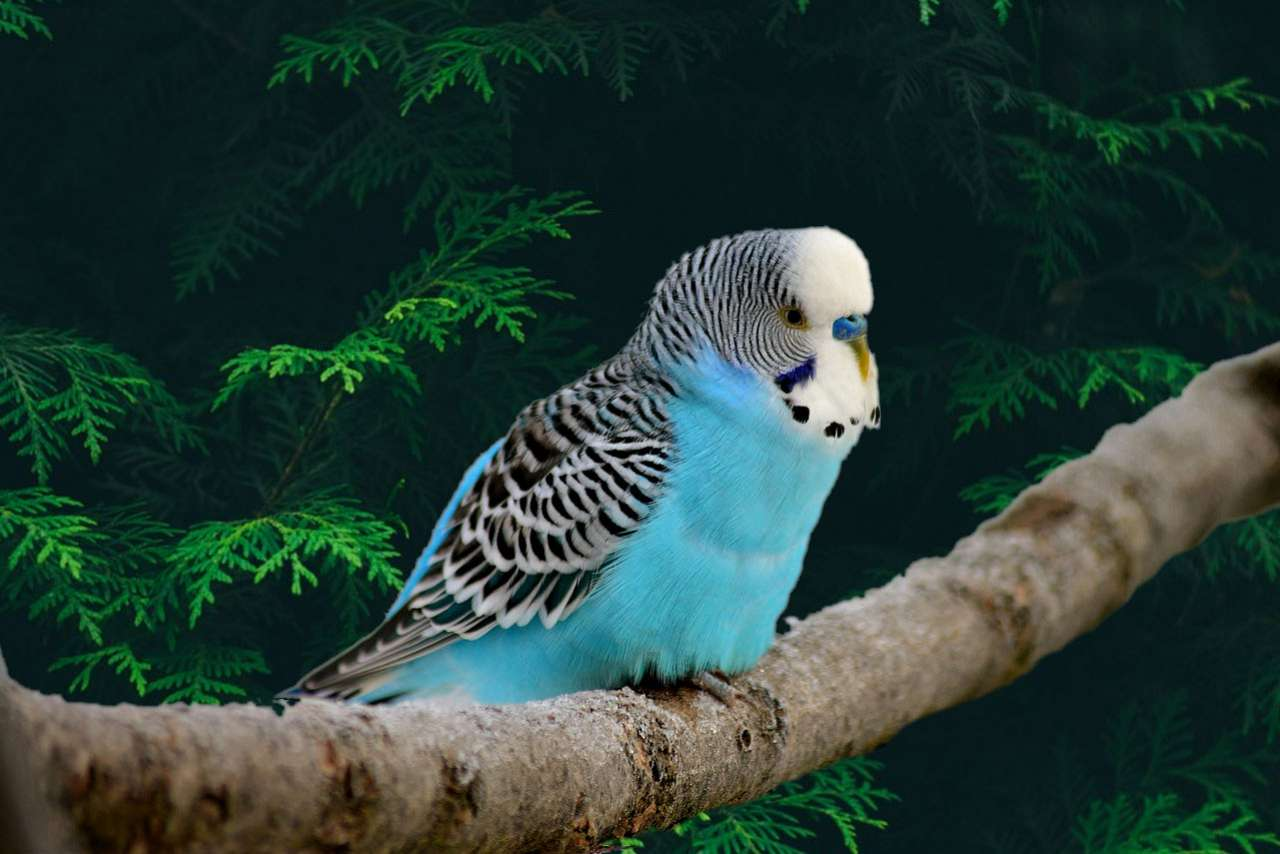budgie: (271, 222, 886, 719)
